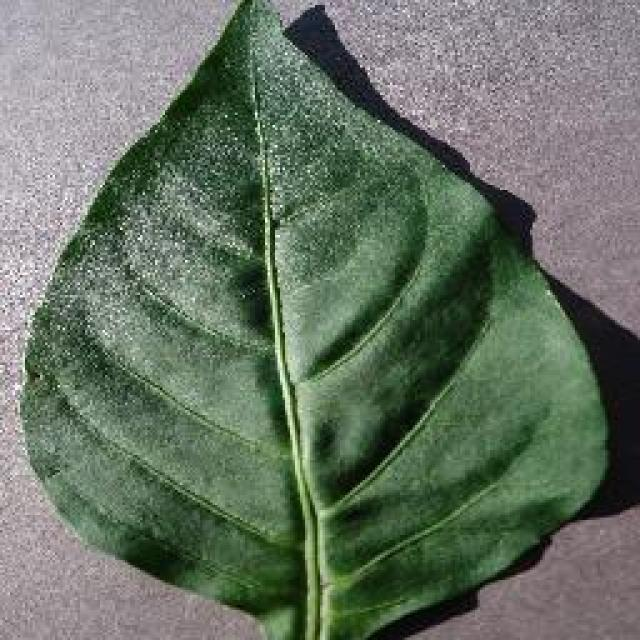Leaf: (25, 2, 625, 630)
